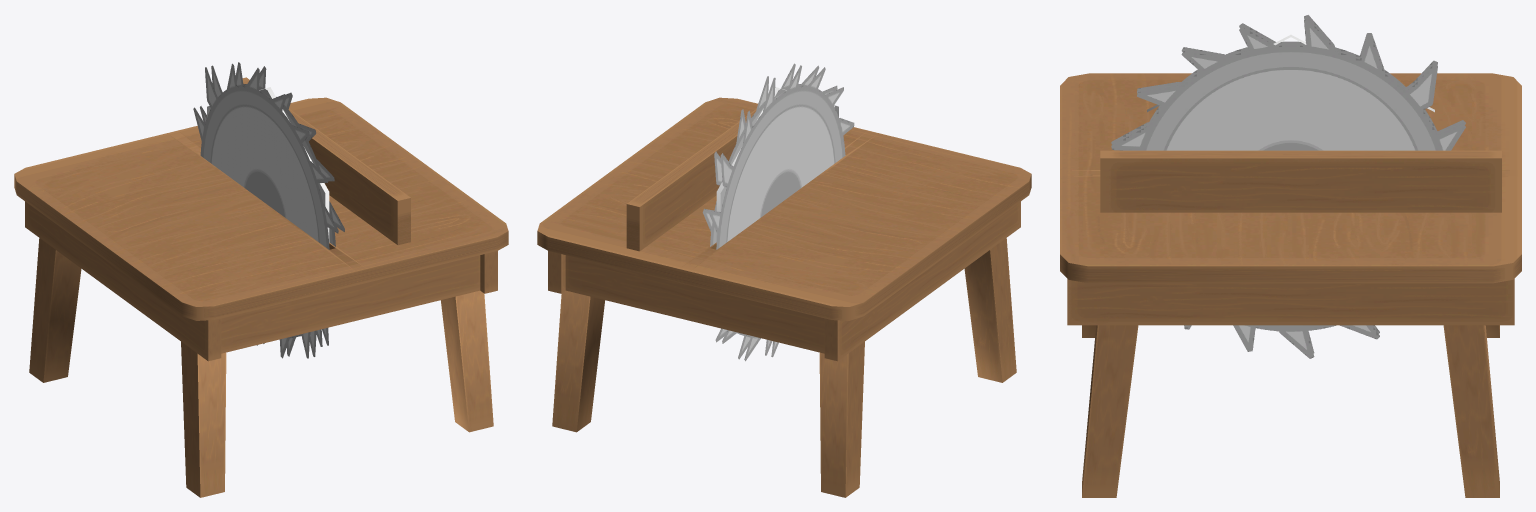
File: Table.fbx
3 renders of one model, left to right at view 1: azimuth 30°, elevation 25°; view 2: azimuth 150°, elevation 25°; view 3: azimuth 270°, elevation 25°, orthographic. The views are drawn at different scales.
Parts seen in each view (by area): view 1: Table, Saw; view 2: Table, Saw; view 3: Table, Saw.
Part boxes in pixels (left/top/right/bottom): Table: left=14, top=77, right=508, bottom=497; Saw: left=193, top=62, right=344, bottom=358; Table: left=537, top=97, right=1031, bottom=497; Saw: left=702, top=63, right=854, bottom=361; Table: left=1060, top=73, right=1521, bottom=497; Saw: left=1111, top=15, right=1465, bottom=358.
Size of the model in its own units: 1.66 by 1.6 by 1.68.
Materials: 2 (2 with a texture image).
